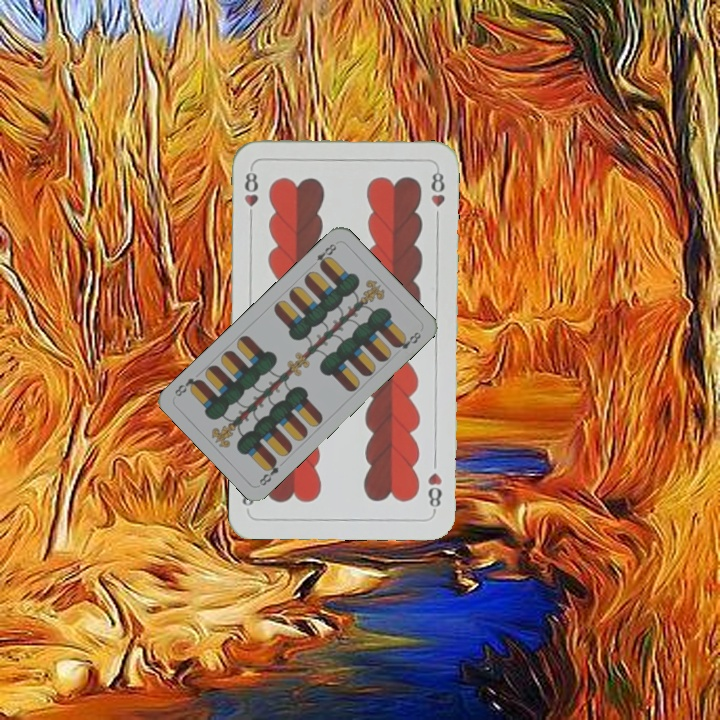E8: (255, 455, 282, 488), (312, 239, 339, 270)
H8: (240, 164, 261, 223), (423, 468, 444, 514)
